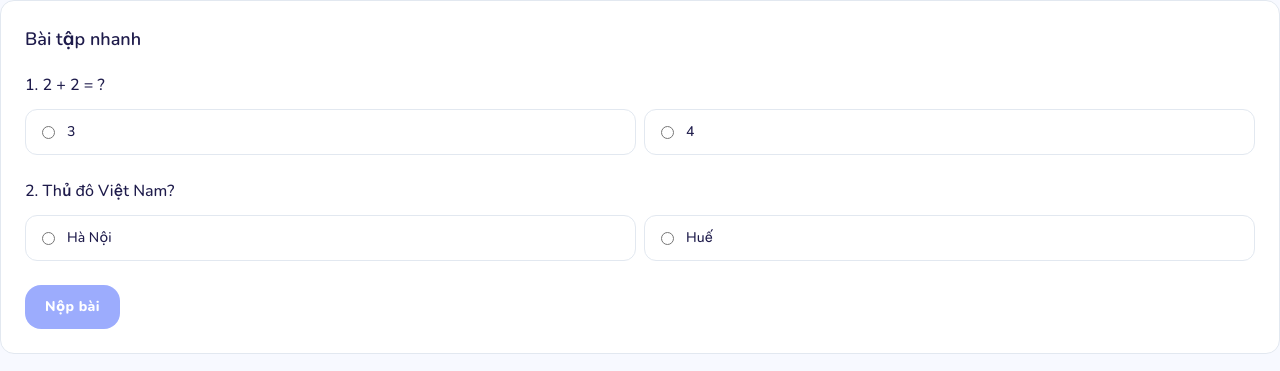
Test case: Quiz › chỉ cho nộp bài khi đã trả lời hết các câu
Expected: the button "Nộp bài" is disabled, [25, 285, 120, 329]
Click the radio button labelled "4": click(668, 132) [661, 126, 674, 138]
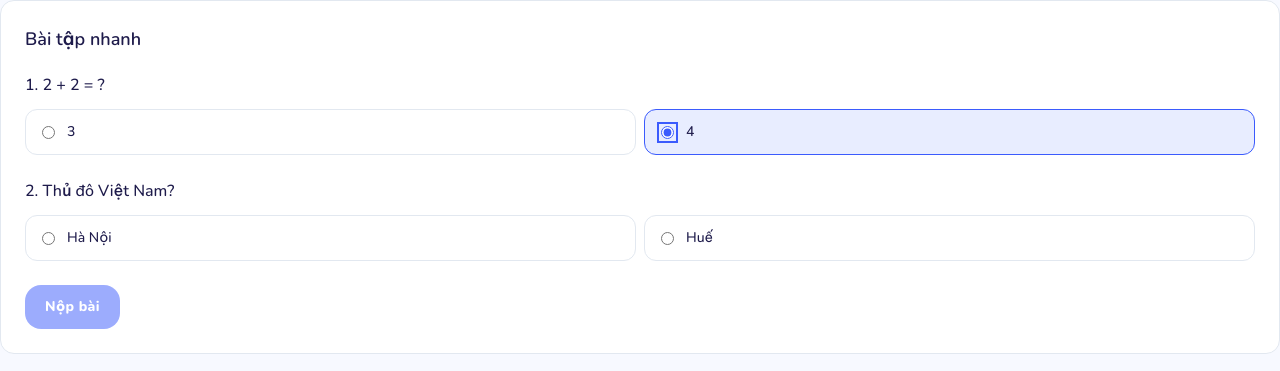
Expected: the button "Nộp bài" is disabled, [25, 285, 120, 329]
Click the radio button labelled "Huế": click(668, 238) [661, 232, 674, 244]
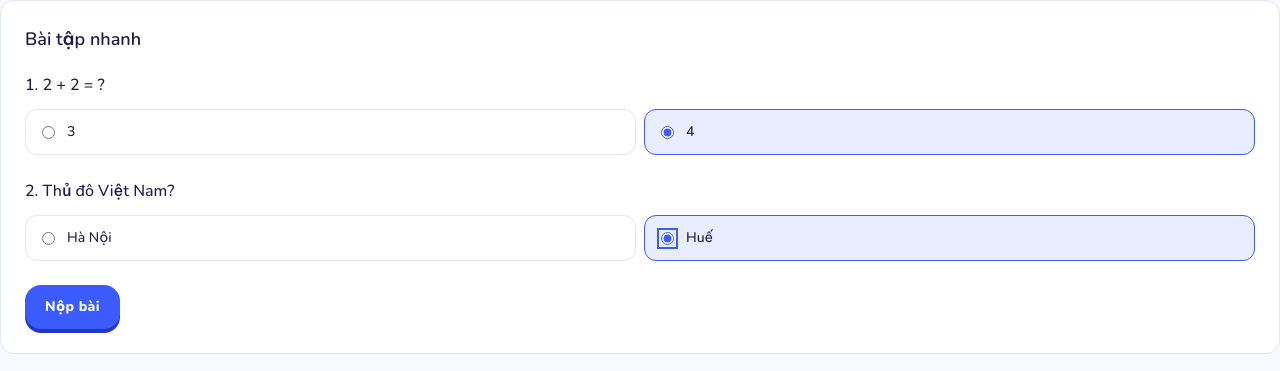
Now the button "Nộp bài" is enabled, box [25, 285, 120, 329]
